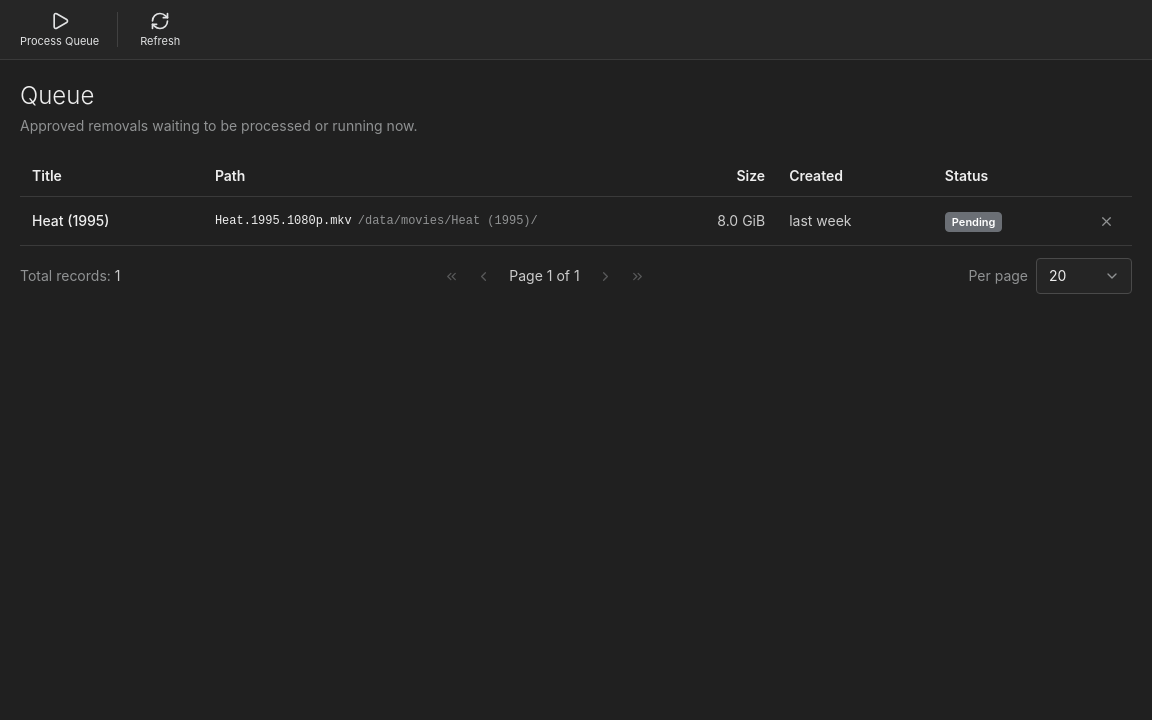
<QueuePage> › shows an error toast when cancelling fails
The width and height of the screenshot is (1152, 720).
Click the button named "Cancel removal of Heat (1995)" at (1106,221), box [1092,207,1120,235]
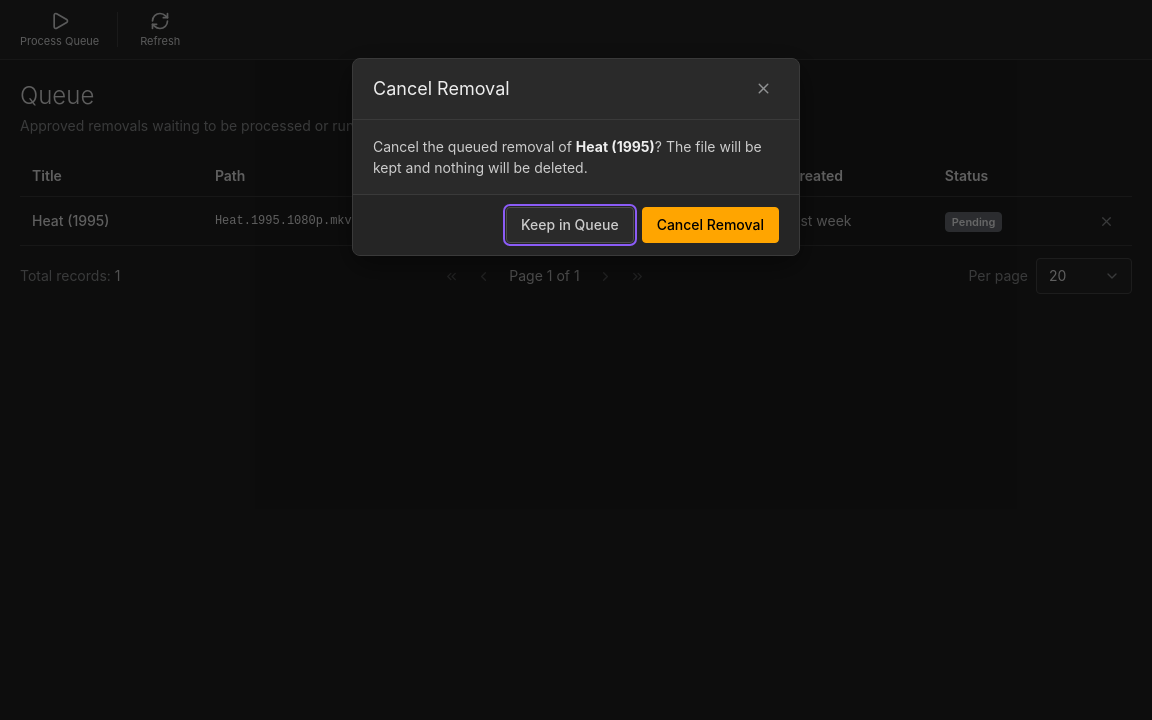
Click the button "Cancel Removal" at (710,225), box [642,207,779,243]
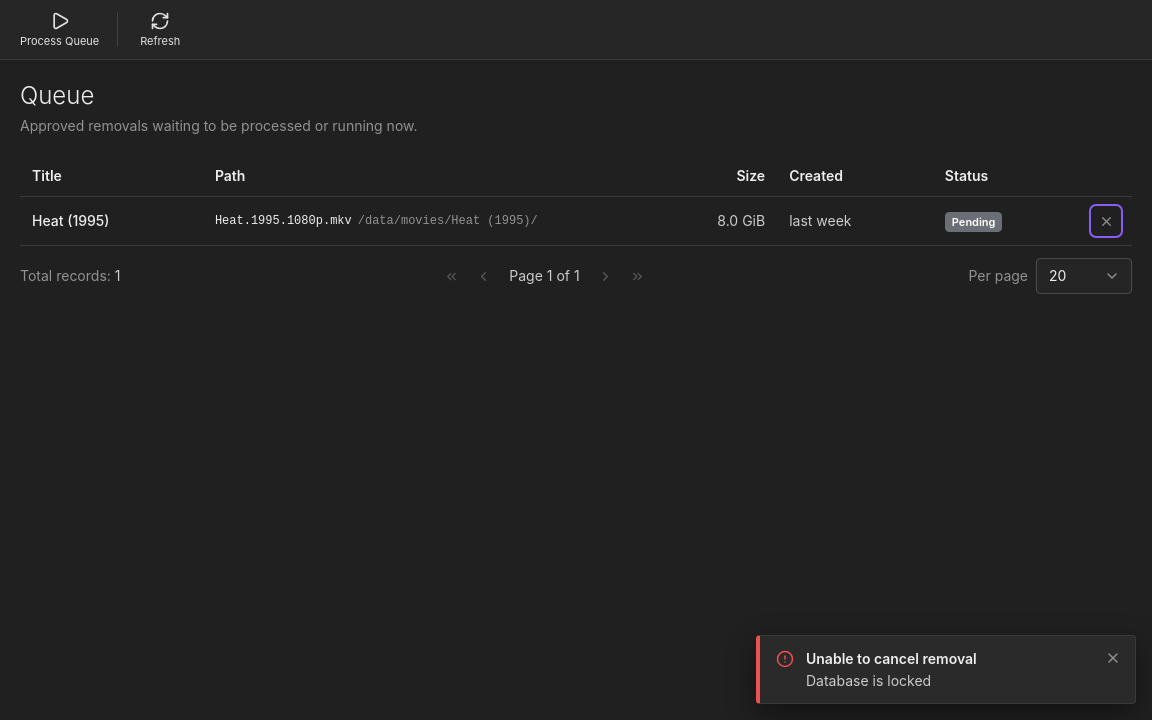
Check: the text "Unable to cancel removal" is shown, box [806,650,977,667]
Check: the text "Database is locked" is shown, box [806,672,931,689]
